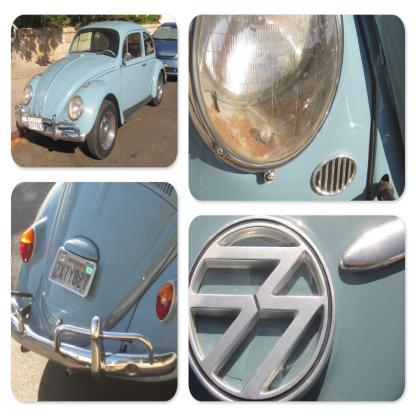Car: (186, 13, 404, 202), (188, 214, 406, 402), (10, 181, 176, 381), (13, 21, 166, 158), (152, 21, 176, 74)
